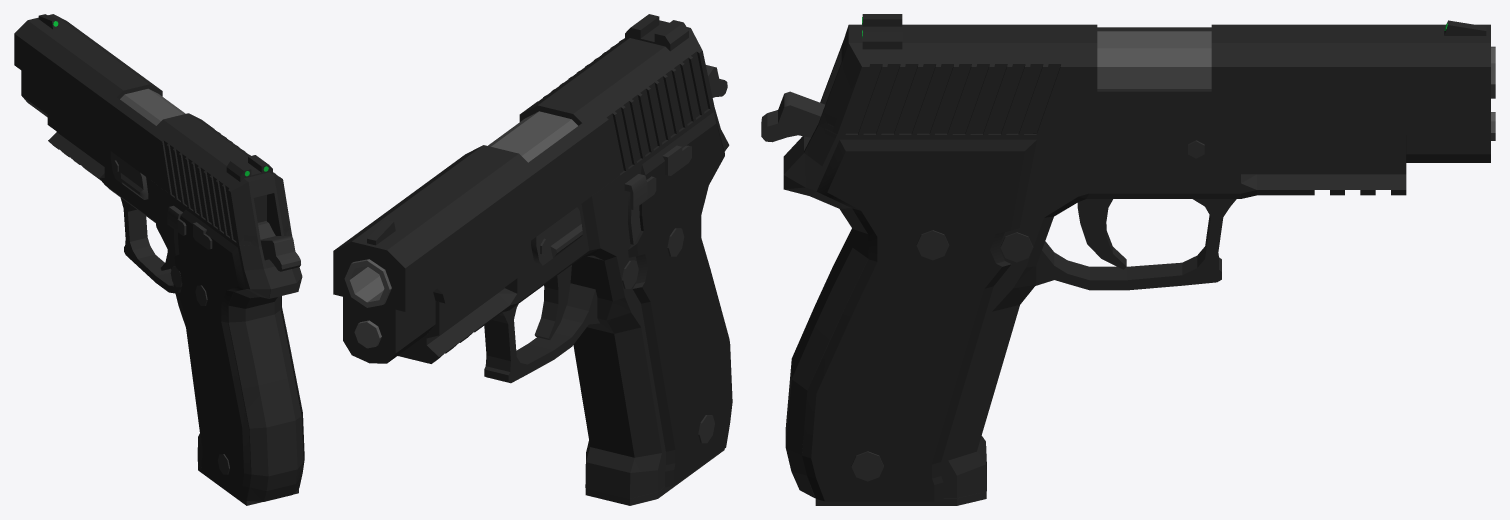
The picture shows the model from 3 angles, left to right: view 1: azimuth 30°, elevation 25°; view 2: azimuth 150°, elevation 25°; view 3: azimuth 270°, elevation 25°; orthographic projection. The views are drawn at different scales.
Parts seen in each view (by area): view 1: slide, Body, Grip_Left, Hammer, Barrel, Component_3, Rear_Sight, Component_2, Grip_Right, Component_1; view 2: slide, Body, Grip_Left, Barrel, Component_3, Trigger, Rear_Sight, Magazine, Component_2, Component_1, Spring; view 3: slide, Grip_Right, Body, Barrel, Hammer, Trigger, Rear_Sight, Magazine.
Part boxes in pixels (left/top/right/bottom): slide: left=14, top=14, right=291, bottom=245; Body: left=47, top=105, right=303, bottom=501; Grip_Left: left=174, top=209, right=250, bottom=500; Hammer: left=258, top=221, right=300, bottom=271; Barrel: left=120, top=88, right=185, bottom=125; Component_3: left=110, top=151, right=148, bottom=199; Rear_Sight: left=226, top=155, right=272, bottom=181; Component_2: left=167, top=205, right=186, bottom=235; Grip_Right: left=281, top=296, right=304, bottom=487; Component_1: left=193, top=222, right=212, bottom=249; slide: left=333, top=20, right=714, bottom=363; Body: left=398, top=106, right=729, bottom=498; Grip_Left: left=628, top=112, right=732, bottom=487; Barrel: left=344, top=111, right=577, bottom=307; Component_3: left=531, top=207, right=582, bottom=265; Trigger: left=534, top=265, right=571, bottom=339; Rear_Sight: left=625, top=14, right=688, bottom=51; Magazine: left=585, top=146, right=724, bottom=505; Component_2: left=624, top=174, right=656, bottom=209; Component_1: left=662, top=145, right=691, bottom=175; Spring: left=354, top=320, right=381, bottom=348; slide: left=823, top=24, right=1490, bottom=162; Grip_Right: left=802, top=139, right=1036, bottom=501; Body: left=783, top=94, right=1406, bottom=498; Barrel: left=1097, top=31, right=1495, bottom=98; Hammer: left=761, top=91, right=824, bottom=142; Trigger: left=1077, top=199, right=1126, bottom=269; Rear_Sight: left=862, top=14, right=902, bottom=49; Magazine: left=815, top=133, right=1036, bottom=505.
Bounding box in the file's own units: 0.0271 × 0.1293 × 0.1851.
1 material, 1 textured.
